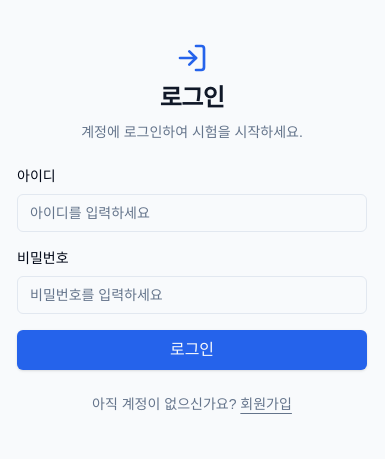
keeps service failures distinct from credential errors
In the field labelled "아이디": (192, 213) [17,194,367,232], type "user"
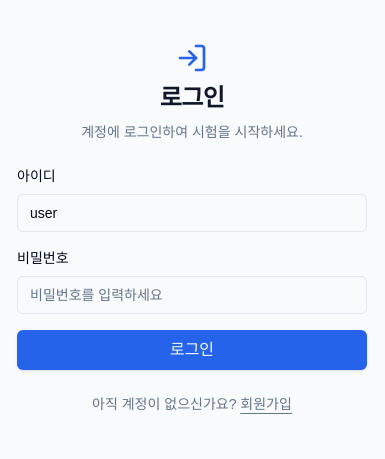
In the password field labelled "비밀번호": (192, 295) [17,276,367,314], type "password"
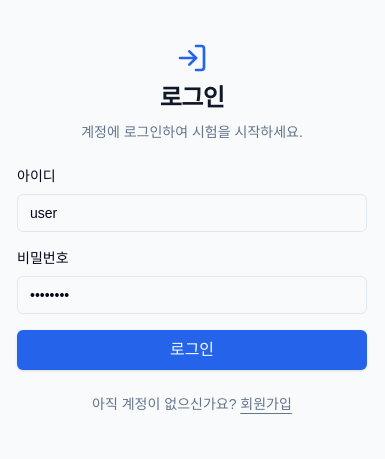
Click the button "로그인": (192, 350) [17,330,367,370]
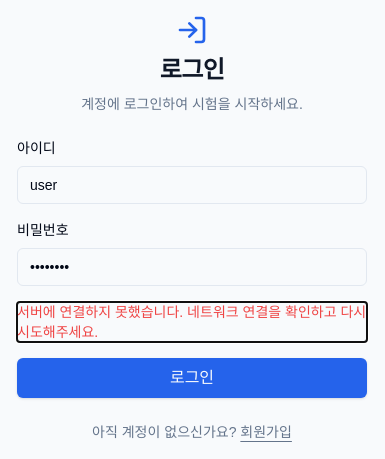
Check: the button "로그인" is shown, box [17,358,367,398]
Check: the message shows "네트워크 연결", box [17,304,366,340]
